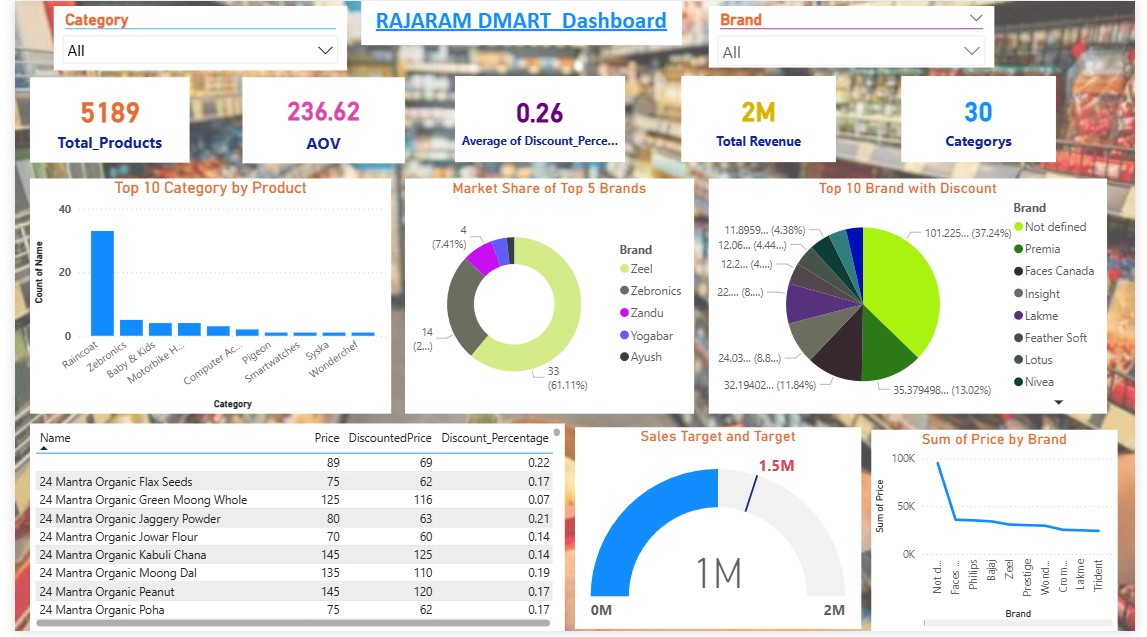

The dashboard page shown, as its layout file describes it:
{"tool":"powerbi","page":{"name":"Page 1","canvas":[1280,720],"ordinal":0},"visuals":[{"type":"textbox","box":[395,0,366.2,50],"z":0},{"type":"card","fields":{"Values":["dmart.Total_Products"]},"box":[17.5,87.5,182.5,97.5],"z":1000},{"type":"card","fields":{"Values":["dmart.AOV"]},"box":[260,87.1,185.7,98.6],"z":2000},{"type":"card","fields":{"Values":["dmart.Discount_Percentage"]},"box":[502.9,85.7,194.3,98.6],"z":3000},{"type":"card","fields":{"Values":["dmart.Price"]},"box":[761.4,85.7,177.1,98.6],"z":4000},{"type":"card","fields":{"Values":["dmart.Category"]},"box":[1012.9,85.7,177.1,98.6],"z":5000},{"type":"slicer","fields":{"Values":["dmart.Category"]},"box":[43.8,6.2,335,73.8],"z":6000},{"type":"slicer","fields":{"Values":["dmart.Brand"]},"box":[792.5,6.2,326.2,70],"z":7000},{"type":"clusteredColumnChart","title":"Top 10 Category by Product","fields":{"Y":["dmart.Name"],"Category":["dmart.Category"]},"box":[17.5,202.5,412.5,268.8],"z":8000},{"type":"donutChart","title":"Market Share of Top 5 Brands ","fields":{"Category":["dmart.Brand"],"Y":["dmart.Name"]},"box":[445,202.5,330,268.8],"z":9000},{"type":"pieChart","title":"Top 10 Brand with Discount","fields":{"Category":["dmart.Brand"],"Y":["dmart.Discount_Percentage"]},"box":[792.5,202.5,455,268.8],"z":10000},{"type":"tableEx","fields":{"Values":["dmart.Name","dmart.Price","dmart.DiscountedPrice","dmart.Discount_Percentage"]},"box":[17.5,482.5,611.2,237.5],"z":11000},{"type":"gauge","fields":{"Y":["dmart.DiscountedPrice"],"TargetValue":["dmart.Target"]},"box":[640,487.1,327.1,230],"z":12000},{"type":"lineChart","fields":{"Category":["dmart.Brand"],"Y":["dmart.Price"]},"box":[978.6,490,281.4,230],"z":13000}]}

Visuals, with their boxes in screenshot pixels (x1, y1, x2, y2), scaled from the page's 1280x720 canvas onto the 1147x637 screenshot:
textbox: (left=354, top=0, right=682, bottom=44)
card - dmart.Total_Products: (left=16, top=77, right=179, bottom=164)
card - dmart.AOV: (left=233, top=77, right=399, bottom=164)
card - dmart.Discount_Percentage: (left=451, top=76, right=625, bottom=163)
card - dmart.Price: (left=682, top=76, right=841, bottom=163)
card - dmart.Category: (left=908, top=76, right=1066, bottom=163)
slicer - dmart.Category: (left=39, top=5, right=339, bottom=71)
slicer - dmart.Brand: (left=710, top=5, right=1002, bottom=67)
"Top 10 Category by Product" clusteredColumnChart: (left=16, top=179, right=385, bottom=417)
"Market Share of Top 5 Brands " donutChart: (left=399, top=179, right=694, bottom=417)
"Top 10 Brand with Discount" pieChart: (left=710, top=179, right=1118, bottom=417)
tableEx - dmart.Name x dmart.Price: (left=16, top=427, right=563, bottom=636)
gauge - dmart.DiscountedPrice x dmart.Target: (left=574, top=431, right=867, bottom=634)
lineChart - dmart.Brand x dmart.Price: (left=877, top=434, right=1129, bottom=636)
